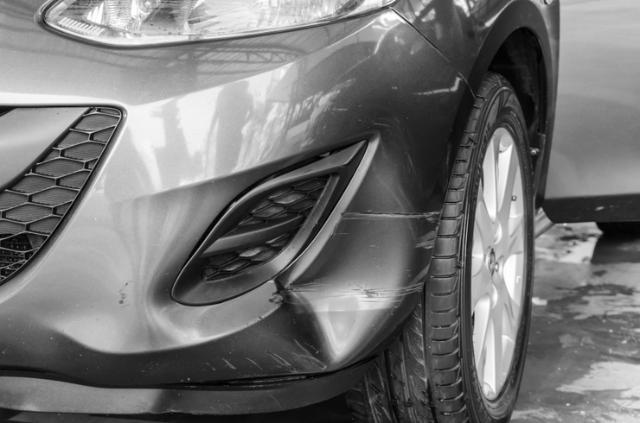Bumper: (101, 67, 447, 404)
